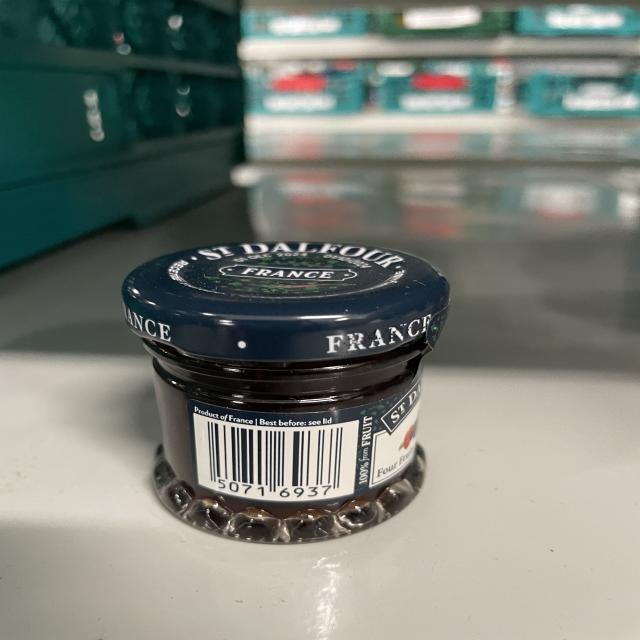object_name: (125, 250, 437, 538)
